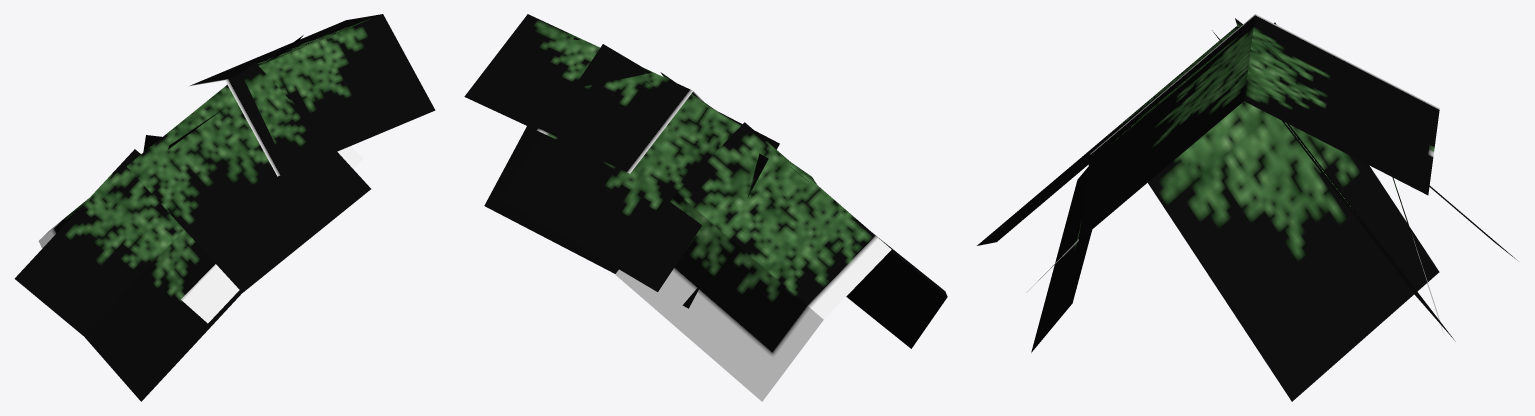
File: spruce_leaves.obj
3 renders of one model, left to right at view 1: azimuth 30°, elevation 25°; view 2: azimuth 150°, elevation 25°; view 3: azimuth 270°, elevation 25°, orthographic. The views are drawn at different scales.
Parts seen in each view (by area): view 1: plane, cube; view 2: plane, cube; view 3: cube, plane.
Part boxes in pixels (x1,y1,x2,y2): plane: (14,14,435,401); cube: (126,32,370,292); plane: (464,14,947,401); cube: (484,37,816,308); cube: (977,22,1517,401); plane: (1026,14,1443,352).
Bounding box in the file's own units: 3.67 × 2.5 × 2.31.
